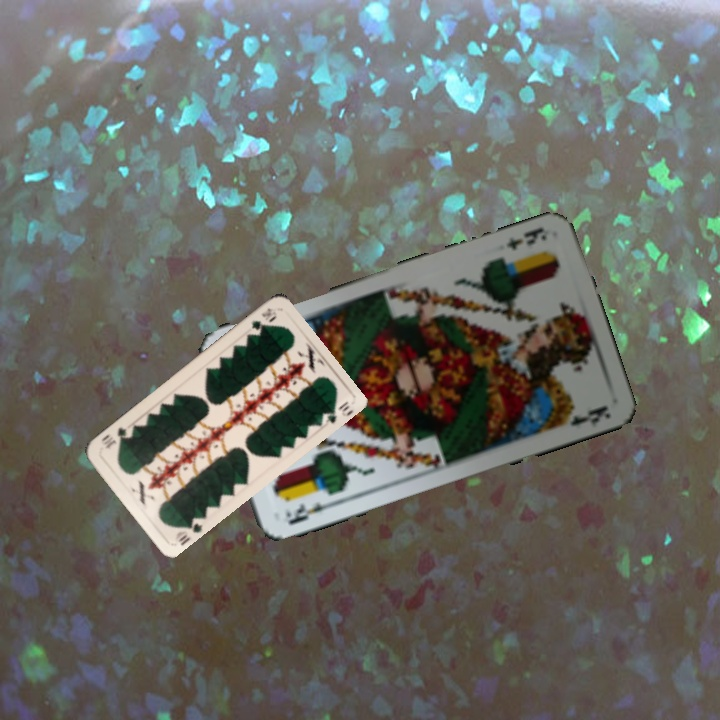EK: (279, 497, 337, 528), (502, 223, 551, 254)
G10: (171, 513, 205, 548), (248, 304, 279, 333)
